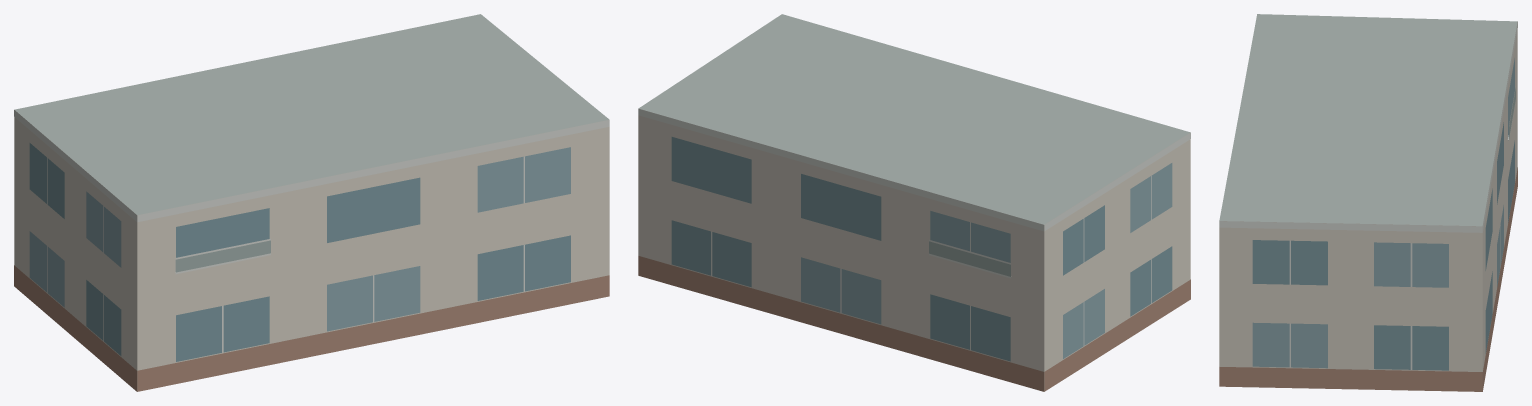
File: survey-upis-32893638.glb
3 views of the same model, side by side, from view 1: azimuth 30°, elevation 25°; view 2: azimuth 150°, elevation 25°; view 3: azimuth 270°, elevation 25° (orthographic). The views are drawn at different scales.
Parts seen in each view (by area): view 1: survey-upis-32893638.tmp; view 2: survey-upis-32893638.tmp; view 3: survey-upis-32893638.tmp.
Part boxes in pixels (<box>): survey-upis-32893638.tmp: <box>14,14,609,391</box>; survey-upis-32893638.tmp: <box>638,14,1190,391</box>; survey-upis-32893638.tmp: <box>1219,14,1517,391</box>.
Bounding box in the file's own units: 16.77 × 6.1 × 9.97.
